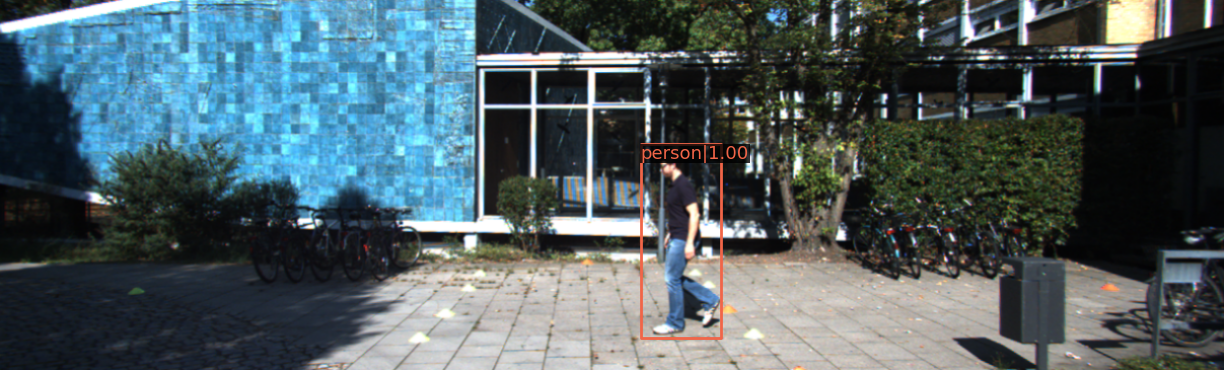person: (632, 147, 720, 346)
